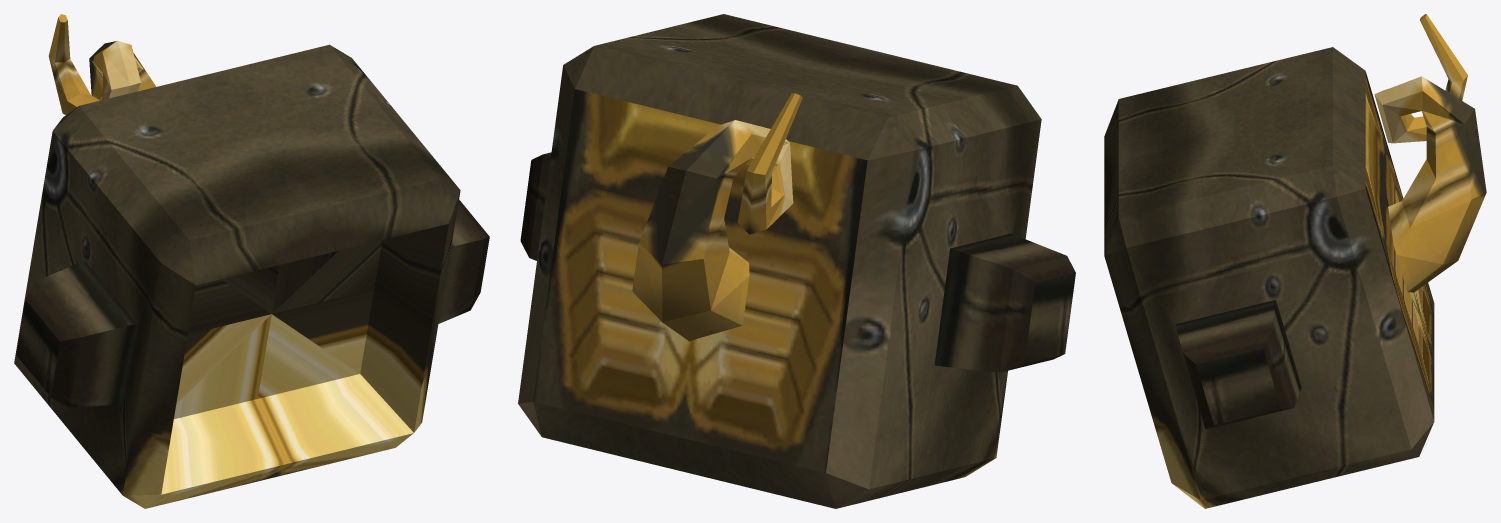
Rendered from Mole_veggieHat.obj.
The picture shows the model from 3 angles, left to right: view 1: azimuth 30°, elevation 25°; view 2: azimuth 150°, elevation 25°; view 3: azimuth 270°, elevation 25°; orthographic projection. The views are drawn at different scales.
Visible parts, largest first — view 1: Mole_veggieHat_tri; view 2: Mole_veggieHat_tri; view 3: Mole_veggieHat_tri.
Part boxes in pixels (x1,y1,x2,y2): Mole_veggieHat_tri: (14,14,489,508); Mole_veggieHat_tri: (518,14,1075,508); Mole_veggieHat_tri: (1104,14,1486,508).
Bounding box in the file's own units: 0.4864 × 0.4365 × 0.387.
1 material, 1 textured.
